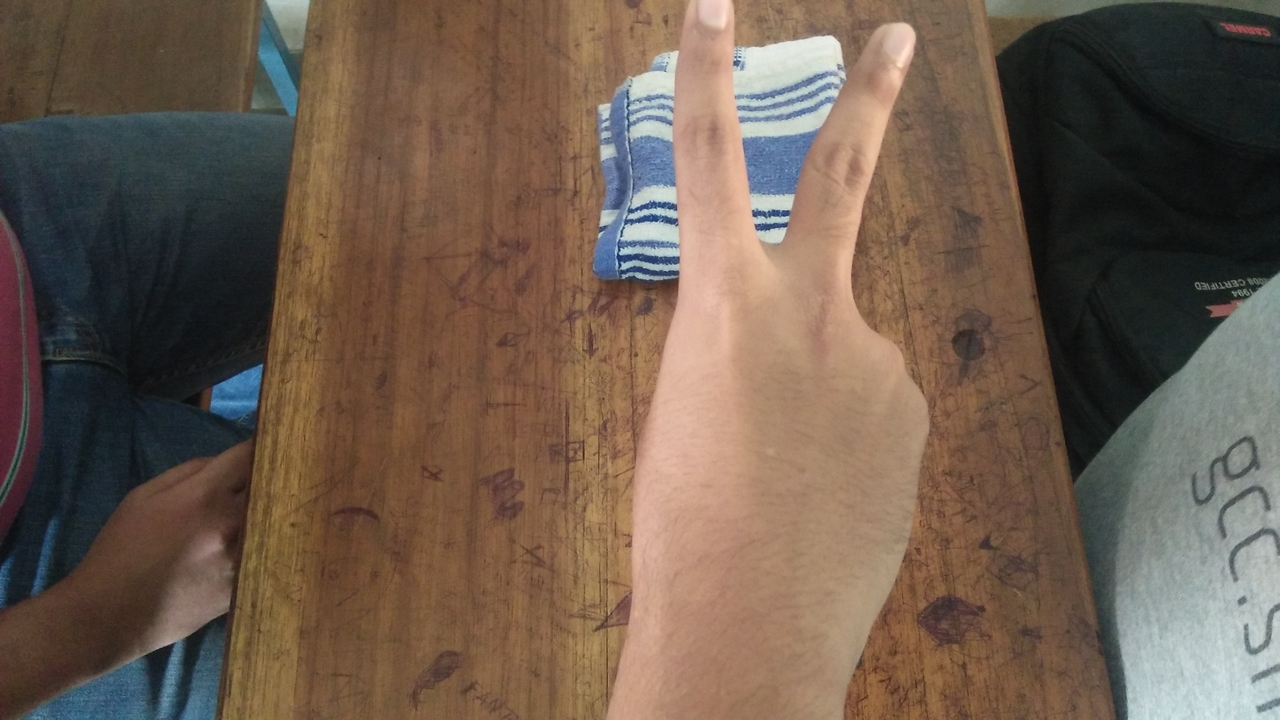fingertip: (862, 16, 928, 80), (682, 4, 734, 46)
